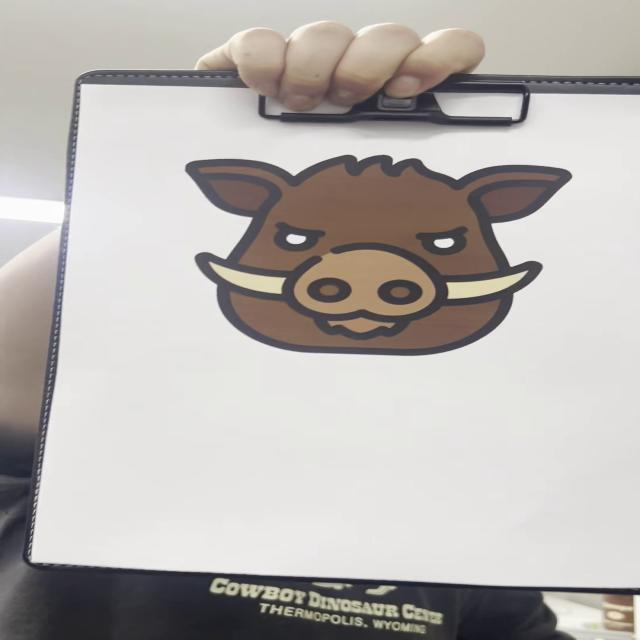animal: (188, 152, 573, 357)
